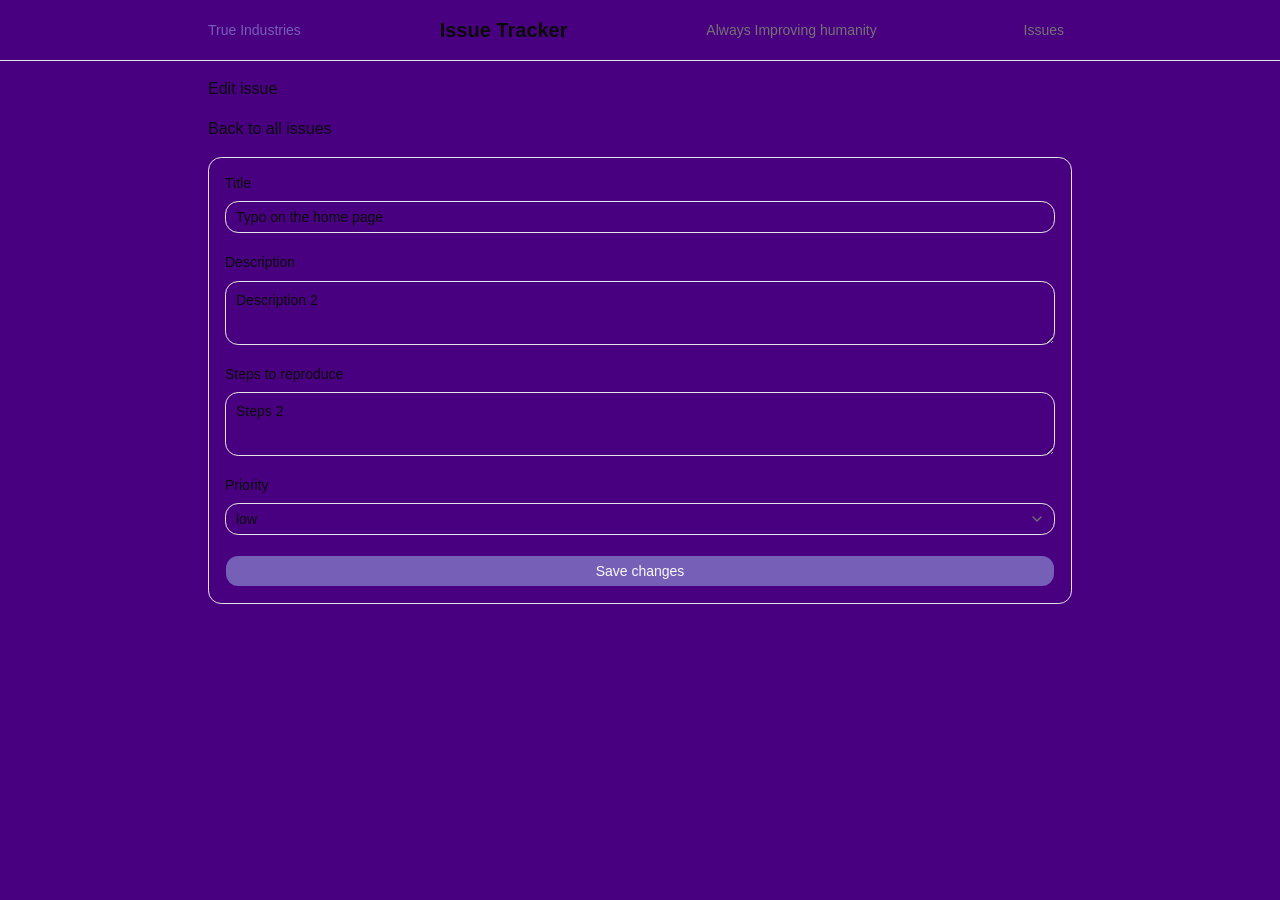
Edit screen › stays on the edit screen and shows the message when the API refuses the save
The width and height of the screenshot is (1280, 900).
Type " again" into the field labelled "Title" at (640, 217), box [225,201,1055,233]
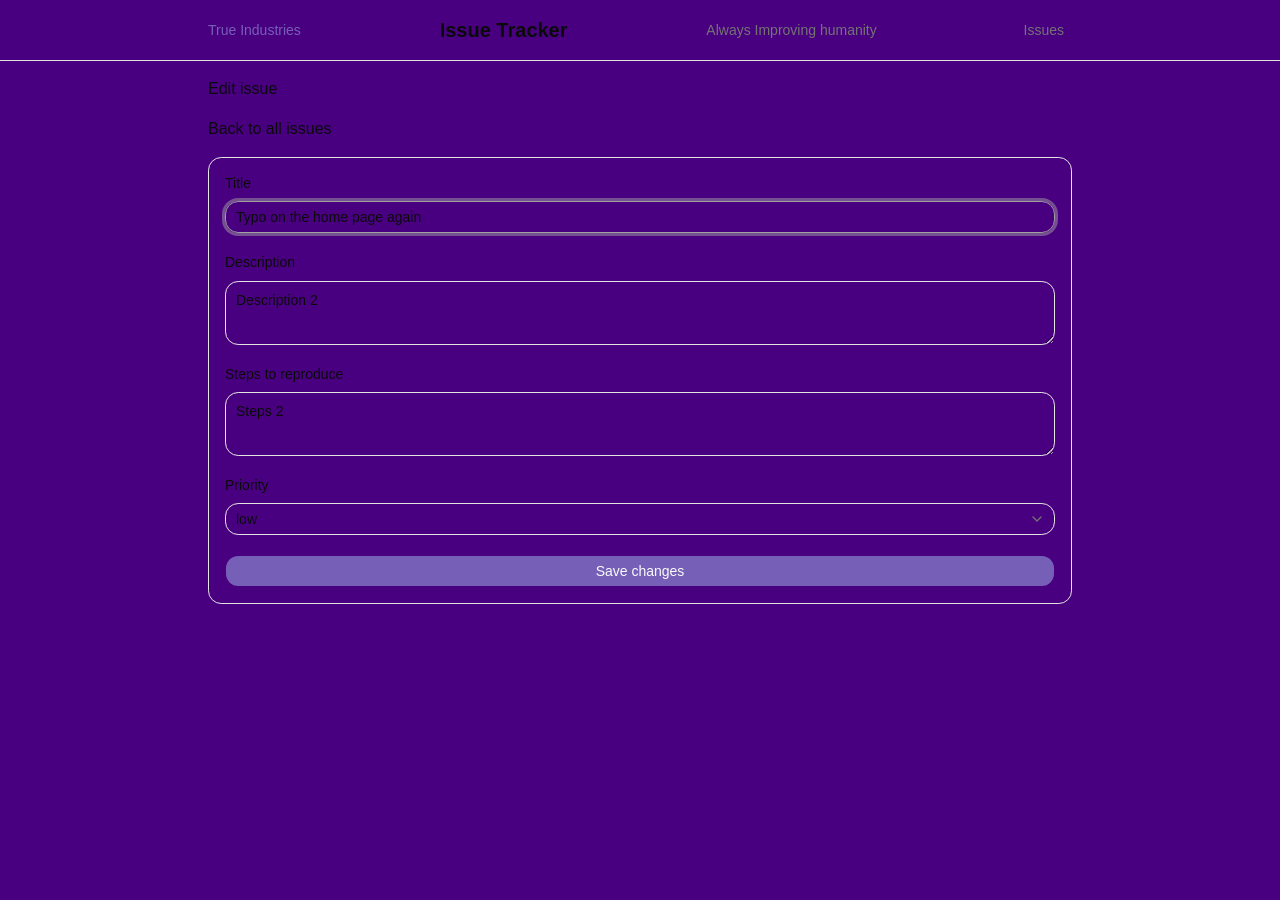
Click the button "Save changes" at (640, 571), box [225,555,1055,587]
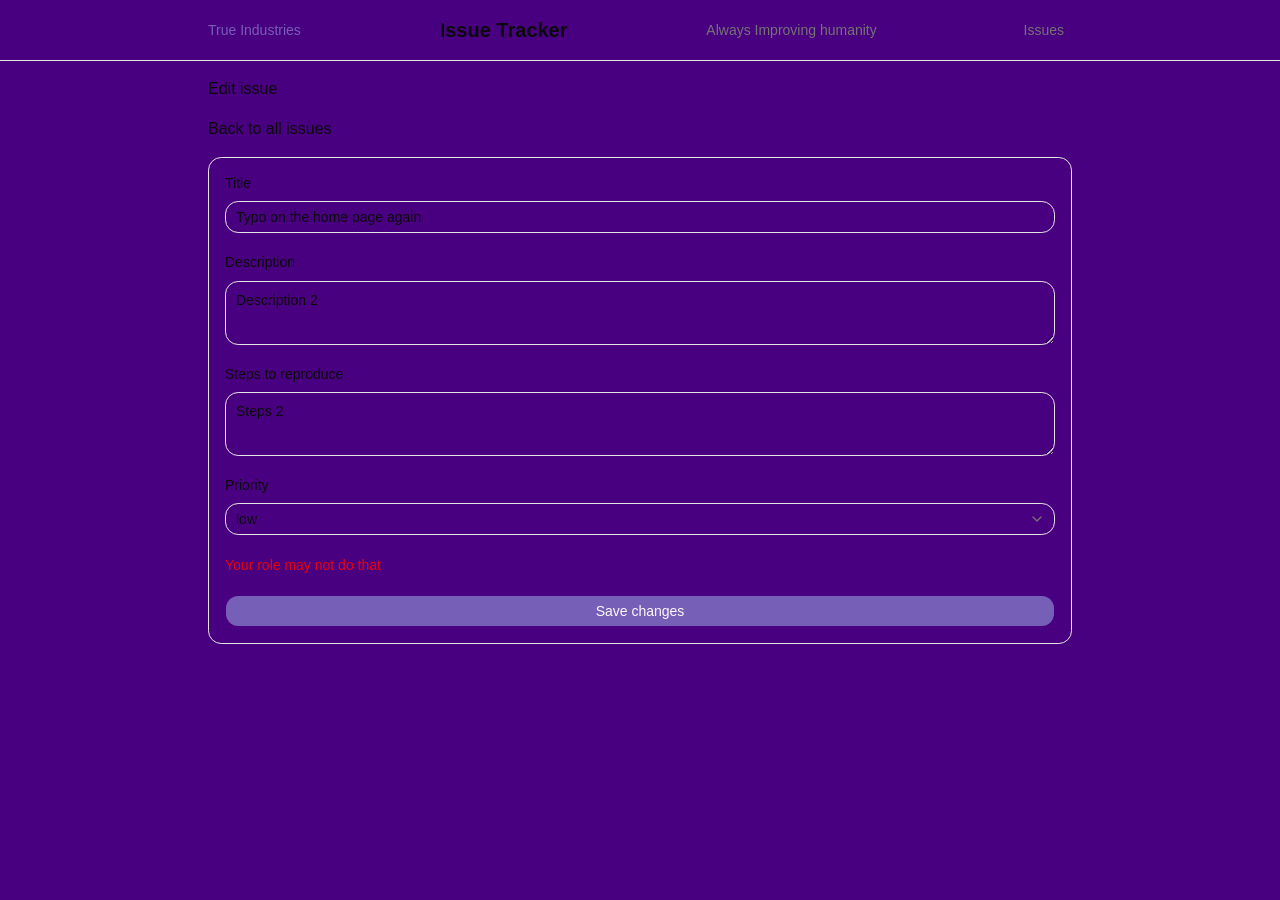
Expected: the heading "Edit issue" is shown, [208,80,277,97]
Result: the text "Your role may not do that" is shown at [225,557,381,573]
